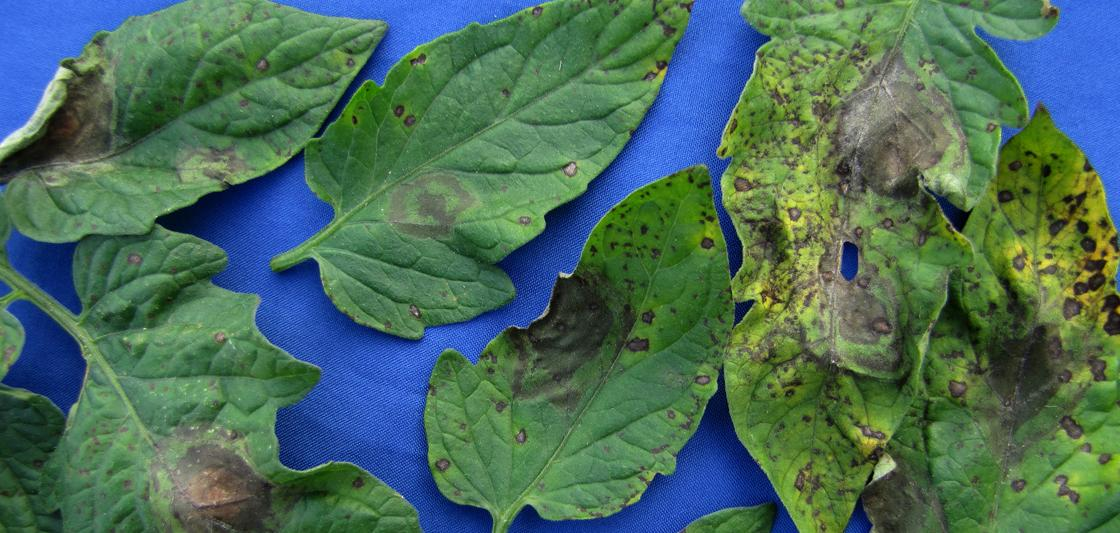Tomato leaf late blight: (710, 0, 1030, 533), (18, 243, 553, 533), (793, 79, 1120, 533), (296, 0, 704, 323), (411, 138, 742, 533), (0, 2, 394, 223)
